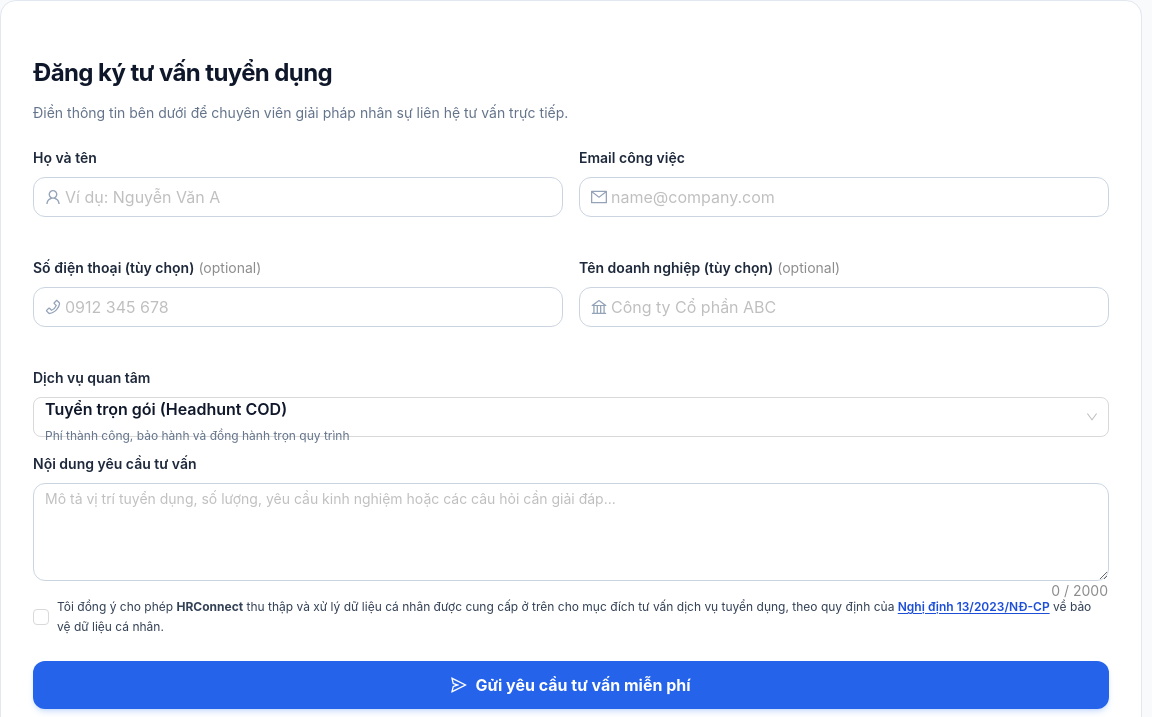
Scenario: ContactConsultationForm › handles 429 rate limited error gracefully
Type "Nguyễn Văn A" into the field with placeholder "Ví dụ: Nguyễn Văn A" at (308, 197), box [65,185,551,209]
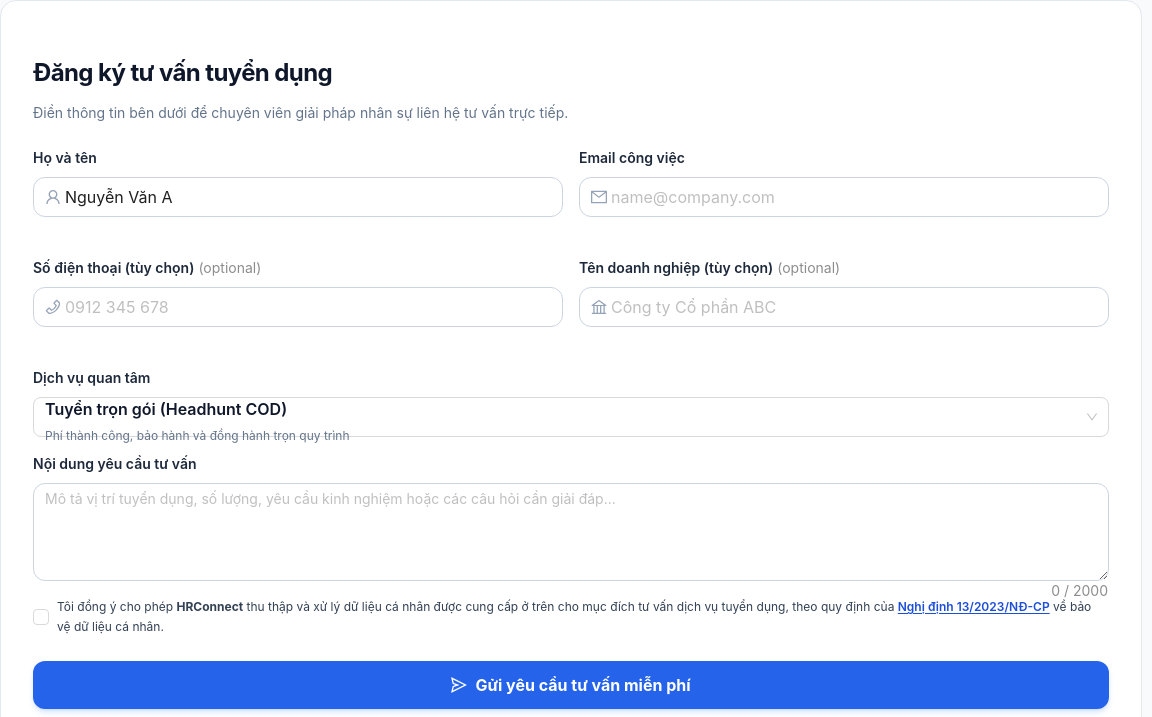
Type "vana@example.com" into the field with placeholder "name@company.com" at (854, 197), box [611,185,1097,209]
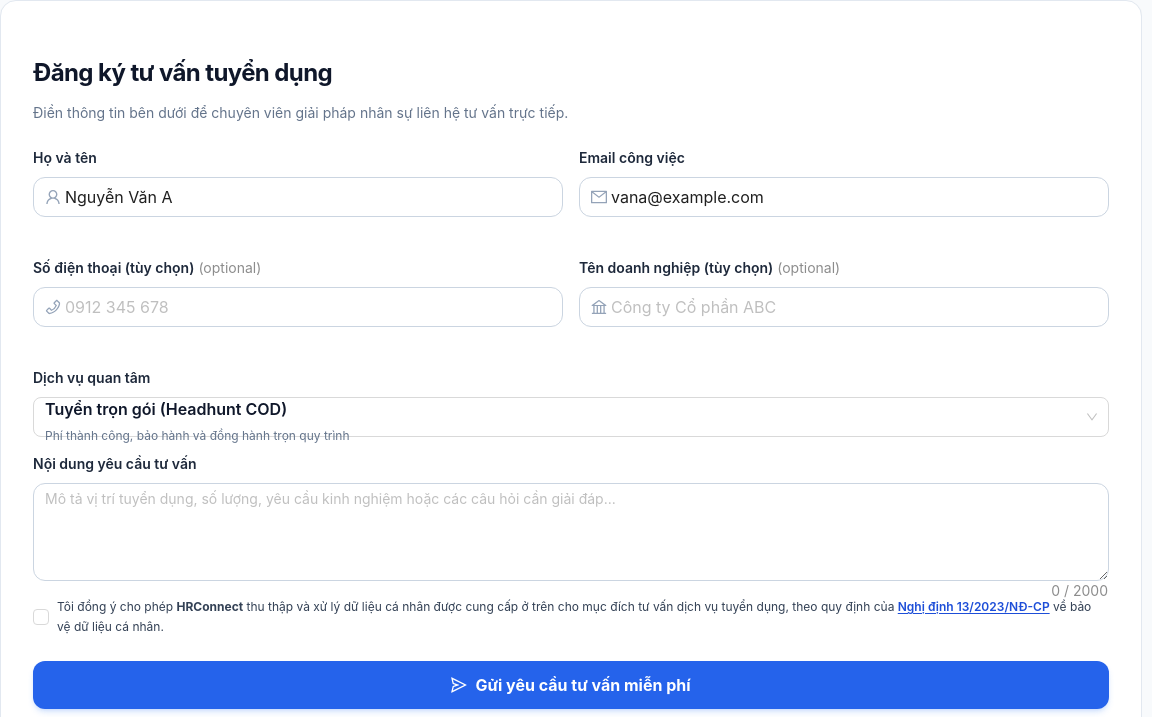
Replace the text in the text box with placeholder "Mô tả vị trí tuyển dụng" with "Cần tư vấn tuyển dụng 3 Senior React Dev trọn gói." at (571, 532), box [34,484,1108,580]
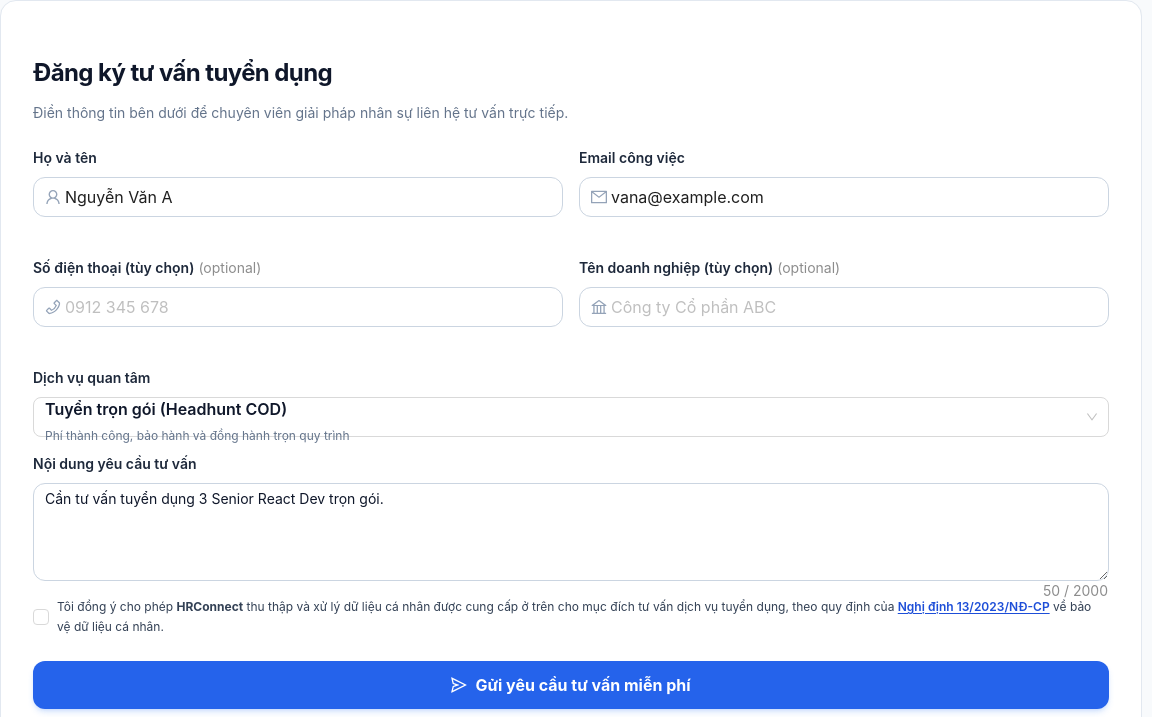
Click the checkbox at (571, 617), box [33,597,1109,637]
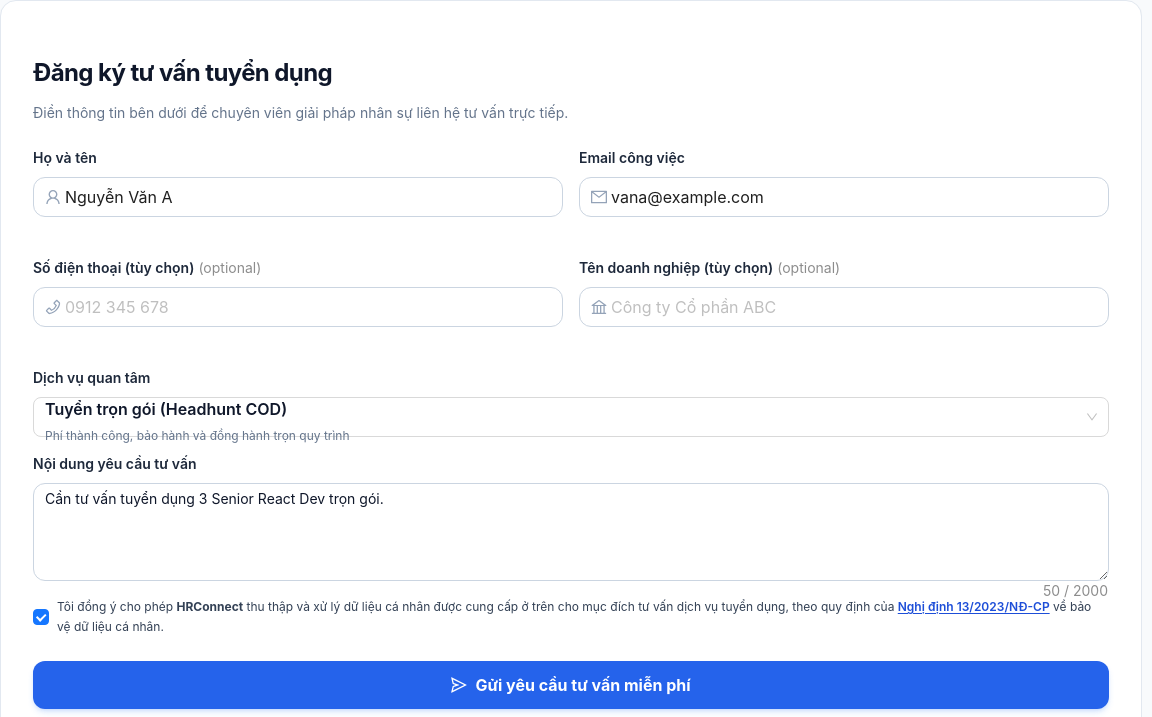
Click the button "Gửi yêu cầu tư vấn miễn phí" at (571, 685), box [33,661,1109,709]
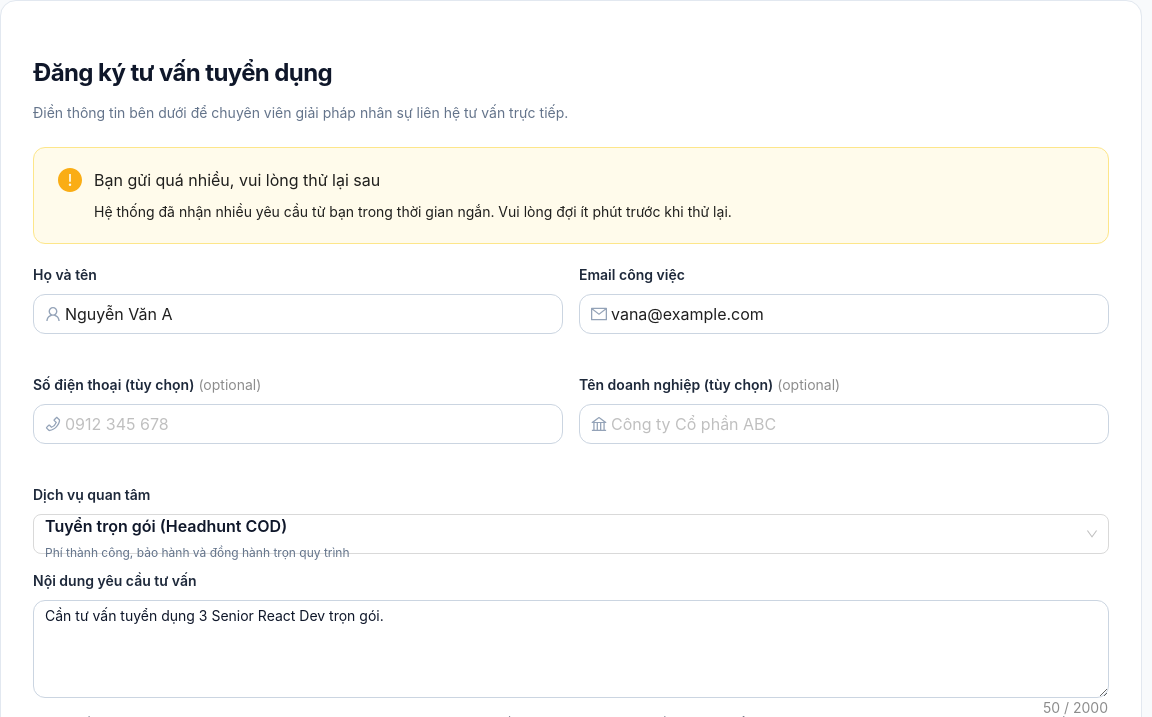
Check: the text "Bạn gửi quá nhiều, vui lòng thử lại sau" is shown, box [94,170,380,190]
